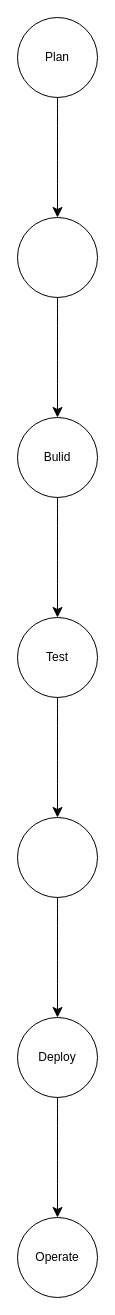
The diagram is 115 pixels wide and 1315 high, and some of its shapes have lost their labels. Each missing label, with the box of its shape:
Develop: (16, 216, 98, 298)
Release: (16, 816, 98, 898)
